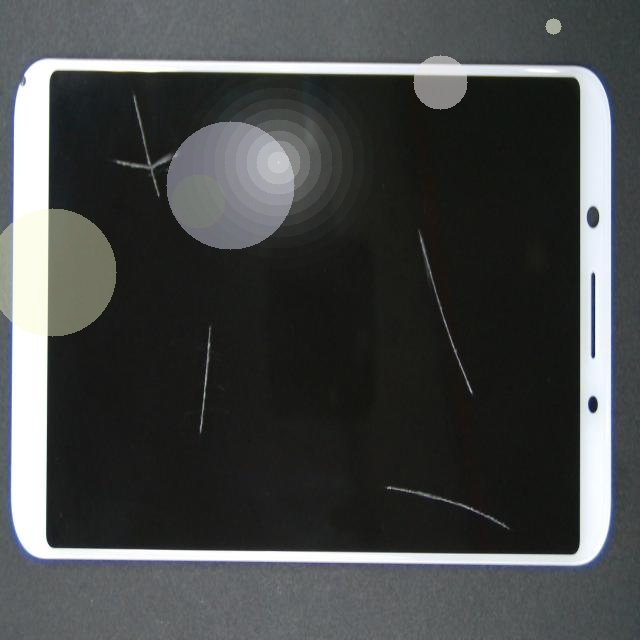scratch: (342, 297, 640, 640), (277, 294, 640, 504), (124, 144, 329, 456), (64, 77, 229, 298)
